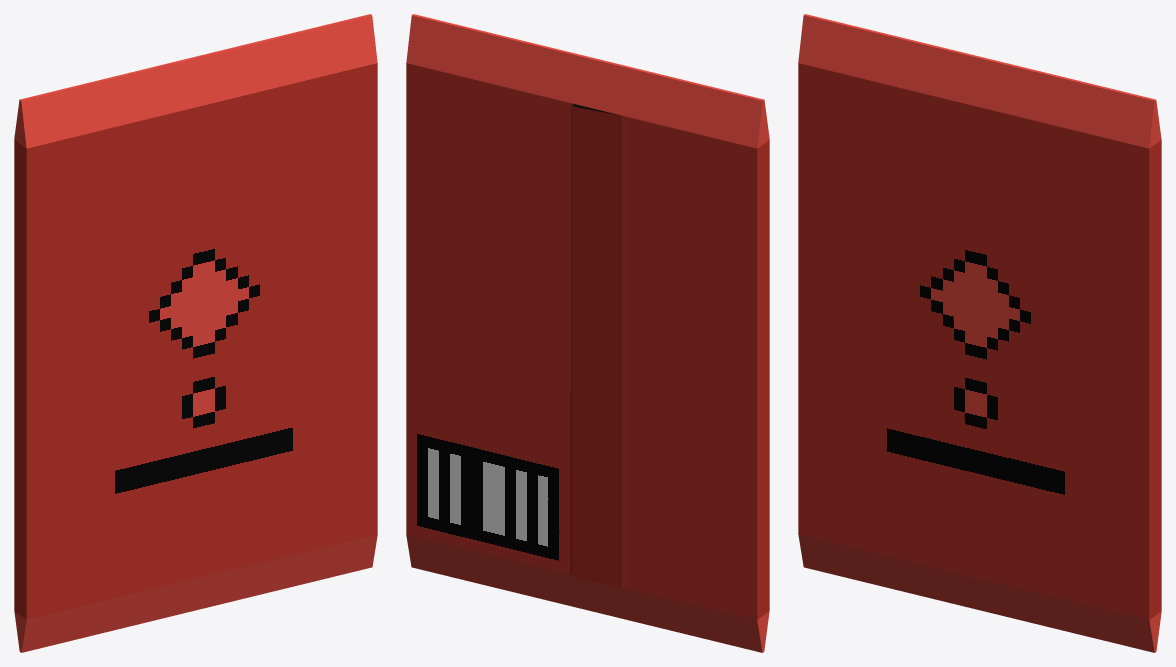
The model's file is pack.glb.
3 renders of one model, left to right at view 1: azimuth 30°, elevation 25°; view 2: azimuth 150°, elevation 25°; view 3: azimuth 330°, elevation 25°, orthographic.
Visible parts, largest first — view 1: base, top; view 2: base, top; view 3: base, top.
Boxes of the visible parts, bbox=[...] form: base: bbox=[14, 63, 377, 652]; top: bbox=[14, 14, 377, 148]; base: bbox=[406, 63, 769, 652]; top: bbox=[406, 14, 769, 148]; base: bbox=[798, 63, 1161, 652]; top: bbox=[798, 14, 1161, 148].
Bounding box in the file's own units: 3.33 × 5 × 0.2502.
2 materials, 2 textured.
